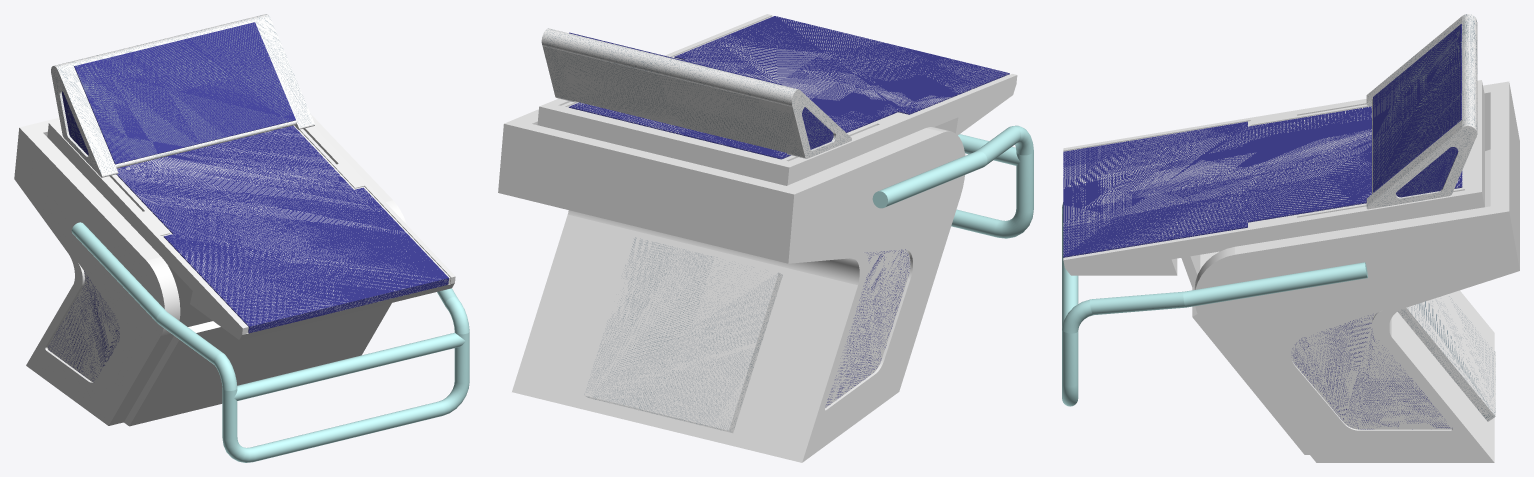
3 views of the same model, side by side, from view 1: azimuth 30°, elevation 25°; view 2: azimuth 150°, elevation 25°; view 3: azimuth 270°, elevation 25° (orthographic). The views are drawn at different scales.
Visible parts, largest first — view 1: Component_6 (×2), Component_7 (×3), Component_1 (×3), Component_10 (×4), Component_4 (×2); view 2: Component_1 (×3), Component_6 (×2), Component_2, Component_7 (×2), Component_10 (×2); view 3: Component_1 (×2), Component_6 (×2), Component_7 (×3), Component_10 (×2), Component_2, Component_4.
Boxes of the visible parts, x1,y1,x2,y2 form: Component_6 (×2): (47,120,455,339); Component_7 (×3): (51,14,314,177); Component_1 (×3): (14,114,406,425); Component_10 (×4): (71,222,469,462); Component_4 (×2): (124,304,385,426); Component_1 (×3): (498,109,965,462); Component_6 (×2): (537,14,1017,185); Component_2: (584,237,782,433); Component_7 (×2): (541,28,851,158); Component_10 (×2): (872,125,1033,238); Component_1 (×2): (1194,81,1519,462); Component_6 (×2): (1063,80,1484,275); Component_7 (×3): (1366,14,1477,209); Component_10 (×2): (1062,262,1367,406); Component_2: (1397,294,1495,421); Component_4: (1181,251,1309,454).
Bounding box in the file's own units: 24.88 × 33.41 × 26.4.
